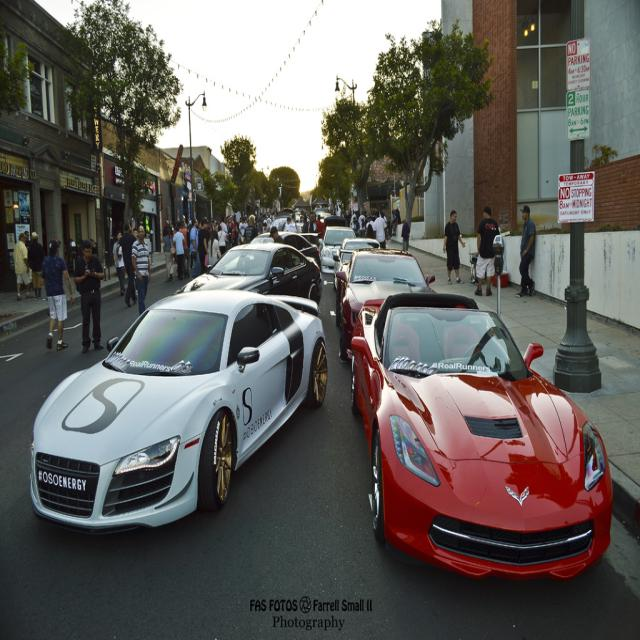car: (348, 290, 613, 579), (28, 287, 328, 533)
